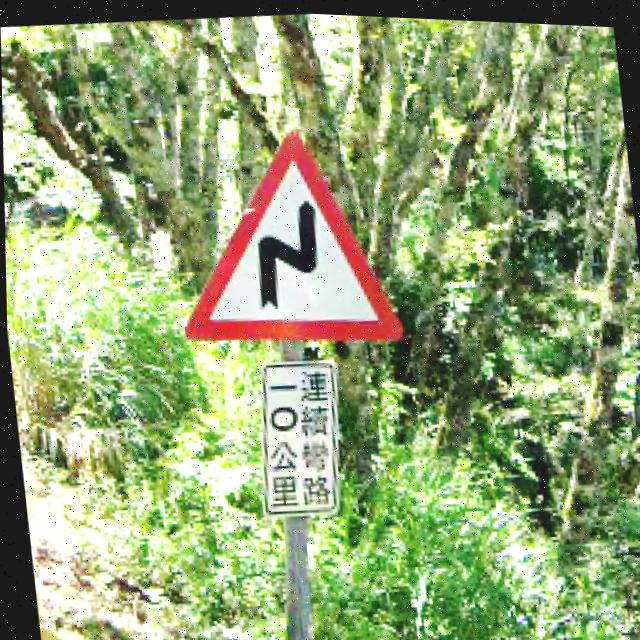doublebendright: (184, 129, 404, 340)
